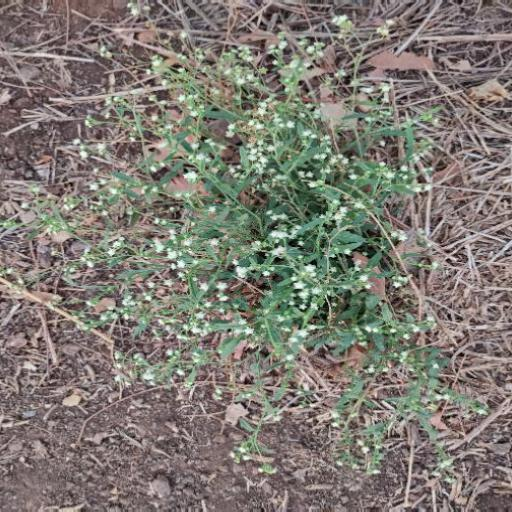weed: (43, 54, 484, 398)
